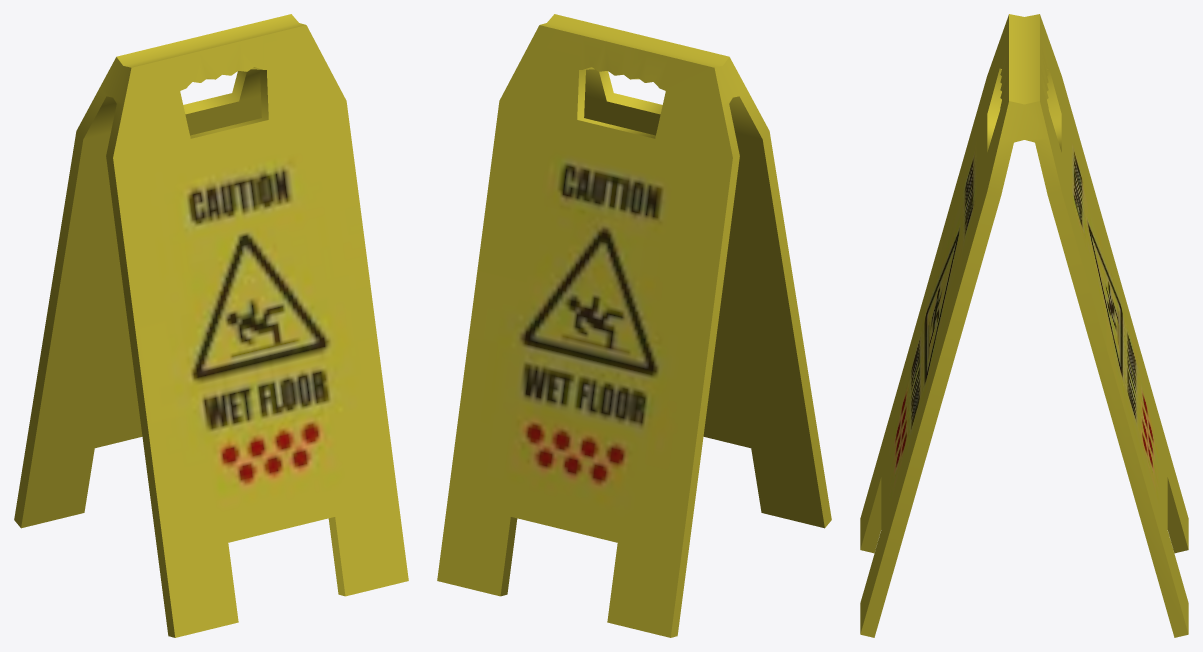
Rendered from wet_floor_sign.glb.
3 views of the same model, side by side, from view 1: azimuth 30°, elevation 25°; view 2: azimuth 150°, elevation 25°; view 3: azimuth 270°, elevation 25° (orthographic).
Visible parts, largest first — view 1: WetFloorSign_01; view 2: WetFloorSign_01; view 3: WetFloorSign_01.
Boxes of the visible parts, bbox=[...] form: WetFloorSign_01: bbox=[14, 14, 408, 637]; WetFloorSign_01: bbox=[437, 14, 831, 637]; WetFloorSign_01: bbox=[860, 14, 1188, 637].
Size of the model in its own units: 0.3 by 0.6295 by 0.3585.
1 material, 1 textured.
